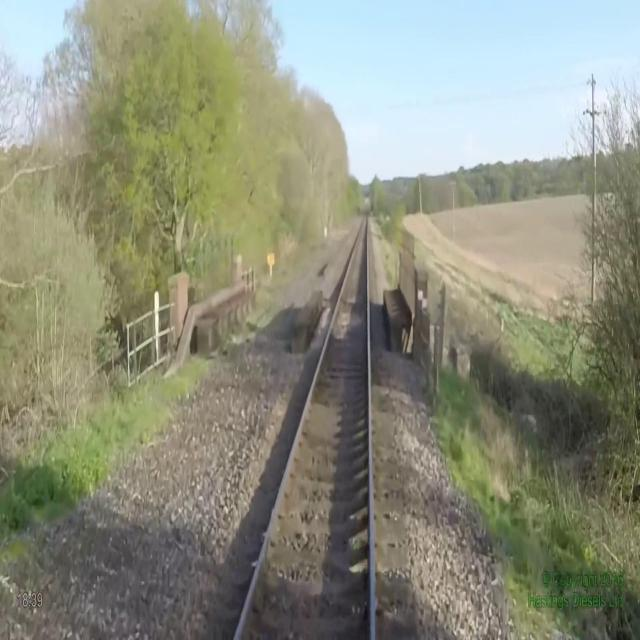rail-track: (236, 216, 368, 639)
